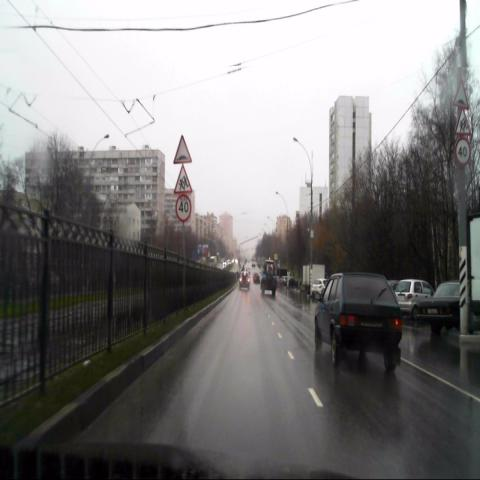1_17: (453, 79, 468, 110)
